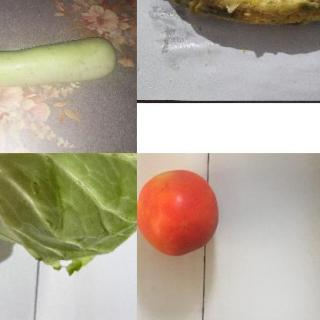Tomat: (137, 165, 223, 262)
